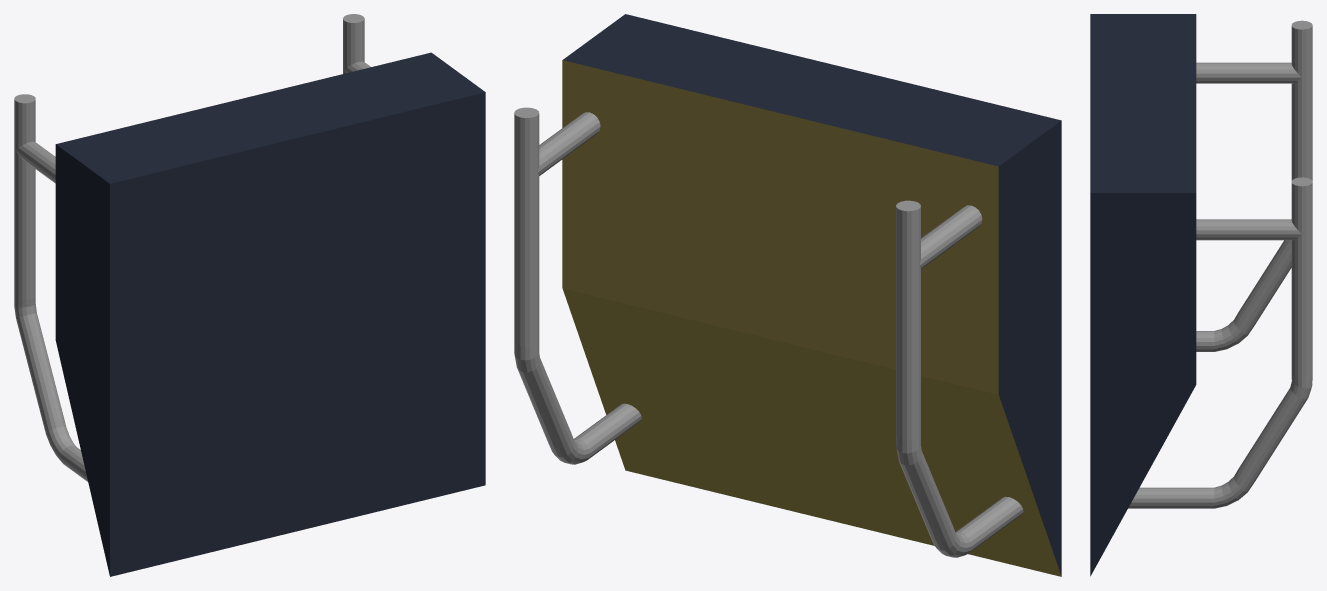
The model's file is Box (Half) W Railing Sides.fbx.
3 renders of one model, left to right at view 1: azimuth 30°, elevation 25°; view 2: azimuth 150°, elevation 25°; view 3: azimuth 270°, elevation 25°, orthographic. The views are drawn at different scales.
Visible parts, largest first — view 1: Box (Half) W Railing Sides; view 2: Box (Half) W Railing Sides; view 3: Box (Half) W Railing Sides.
Boxes of the visible parts, box(x1,y1,x2,y2) form: Box (Half) W Railing Sides: box(14, 14, 485, 576); Box (Half) W Railing Sides: box(514, 14, 1061, 576); Box (Half) W Railing Sides: box(1090, 14, 1312, 576).
Bounding box in the file's own units: 800 × 800 × 420.
